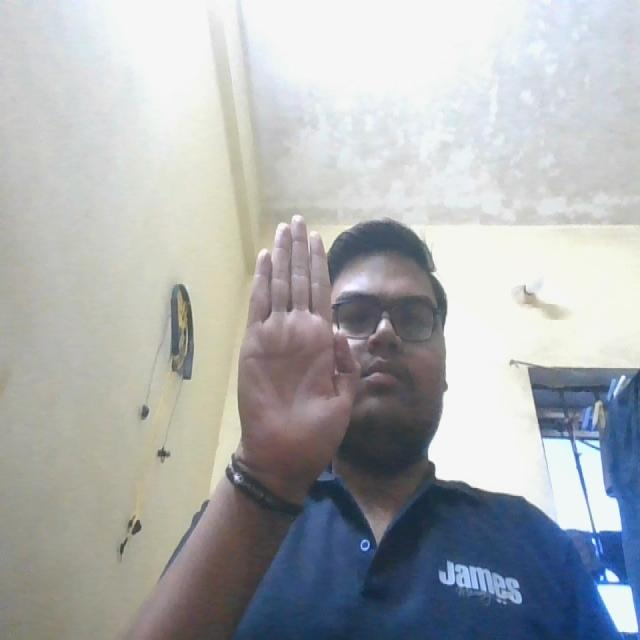Hello: (228, 202, 365, 484)
